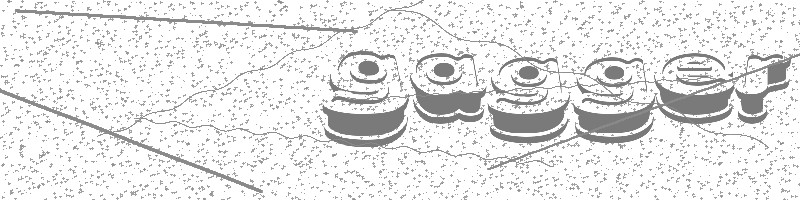a: (409, 49, 487, 125)
e: (655, 51, 735, 125)
g: (320, 48, 410, 150), (571, 55, 655, 146), (487, 55, 571, 144)
r: (735, 52, 791, 125)
